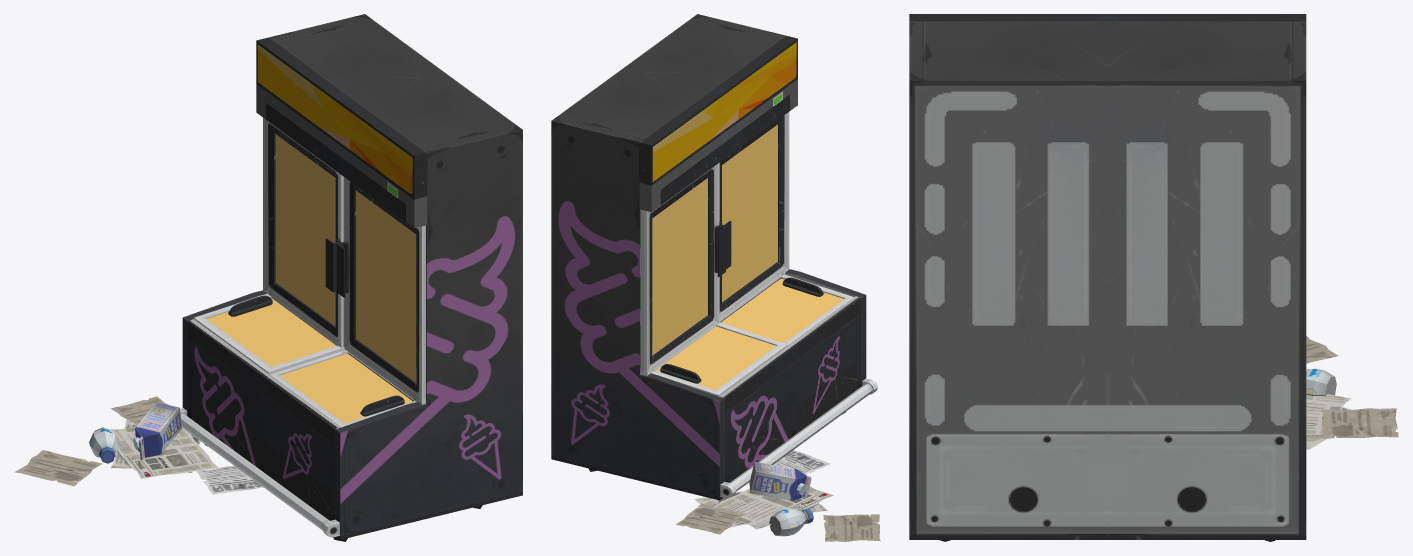
The model's file is P_NEWMaket01_after07.obj.
The picture shows the model from 3 angles, left to right: view 1: azimuth 30°, elevation 25°; view 2: azimuth 150°, elevation 25°; view 3: azimuth 270°, elevation 25°; orthographic projection. The views are drawn at different scales.
Size of the model in its own units: 2.71 by 2.81 by 2.59.
Materials: 55 (55 with a texture image).
